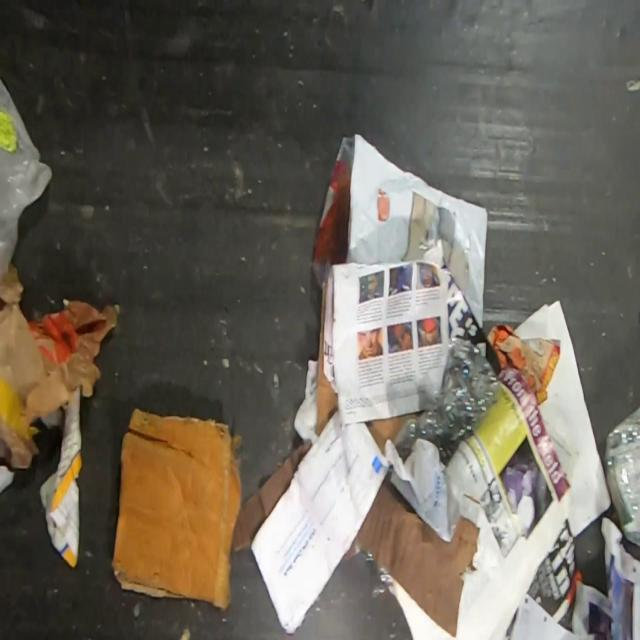cardboard: (112, 407, 242, 609), (344, 476, 480, 636), (232, 439, 312, 551), (315, 282, 338, 435), (368, 413, 414, 455)
soft_plastic: (392, 335, 499, 471), (0, 77, 52, 275), (604, 406, 640, 548)
